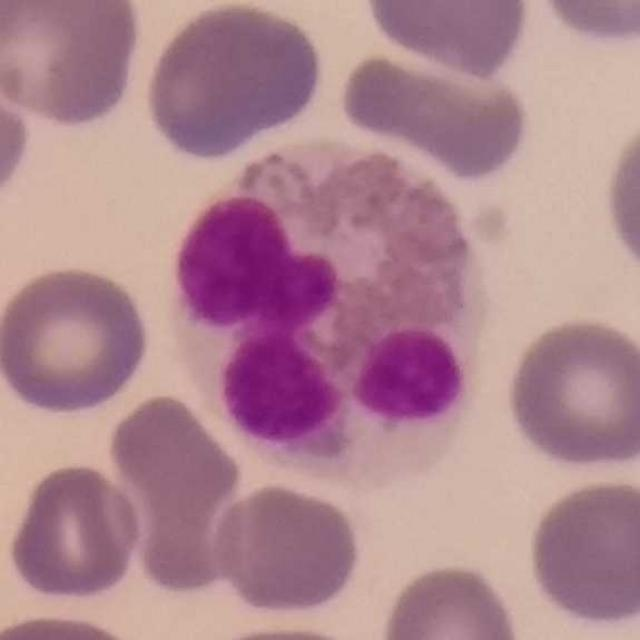Eosinophil: (164, 139, 482, 492)
RBC: (140, 0, 328, 163), (335, 45, 534, 182), (0, 261, 154, 418), (501, 312, 640, 475), (208, 479, 365, 620), (5, 458, 146, 606), (102, 389, 245, 528), (0, 0, 146, 130), (523, 473, 640, 633), (121, 472, 261, 594), (358, 0, 534, 81), (376, 558, 526, 640), (597, 102, 640, 290), (0, 36, 36, 217), (528, 0, 640, 52), (0, 607, 151, 640), (195, 620, 377, 640)
